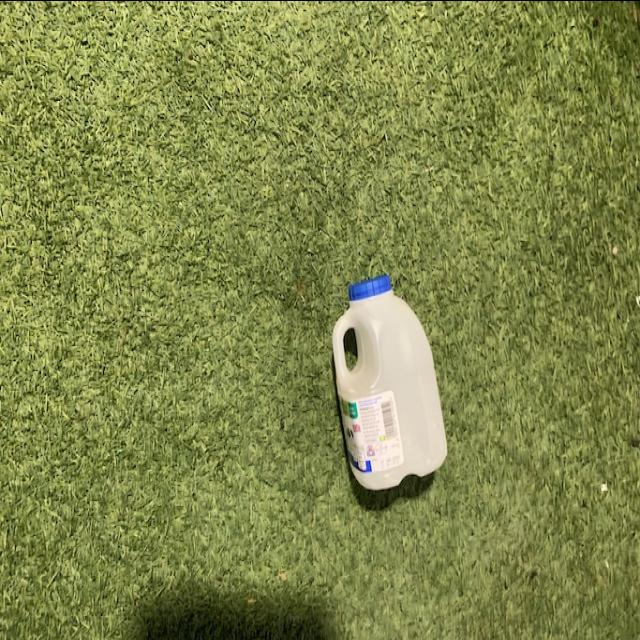litter: (330, 272, 450, 496)
